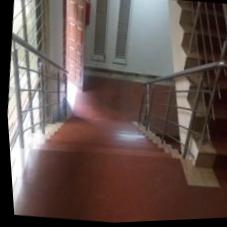Animal: (14, 102, 179, 184)
